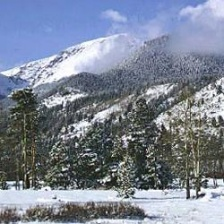neutral: (1, 6, 224, 222)
